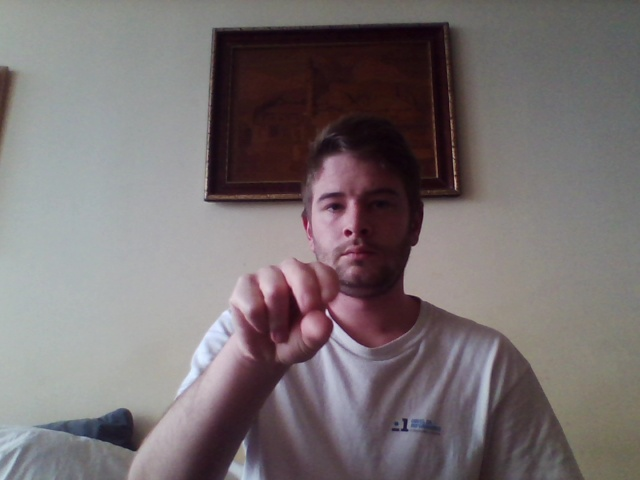ne: (227, 254, 343, 366)
